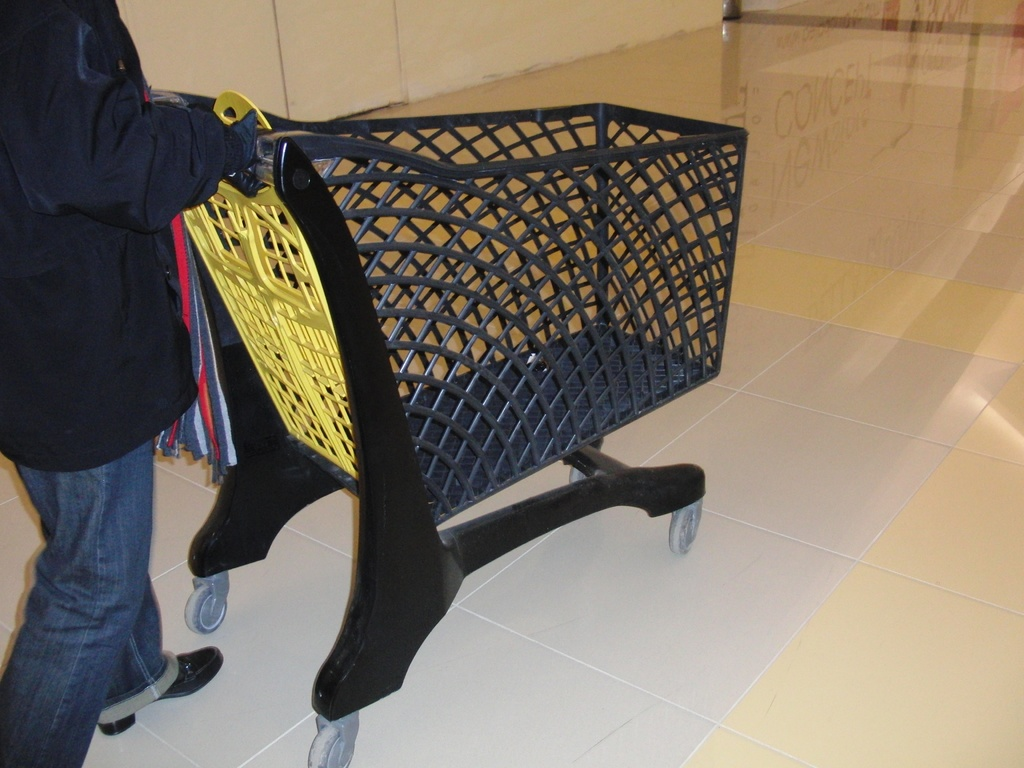Person: (0, 0, 269, 768)
